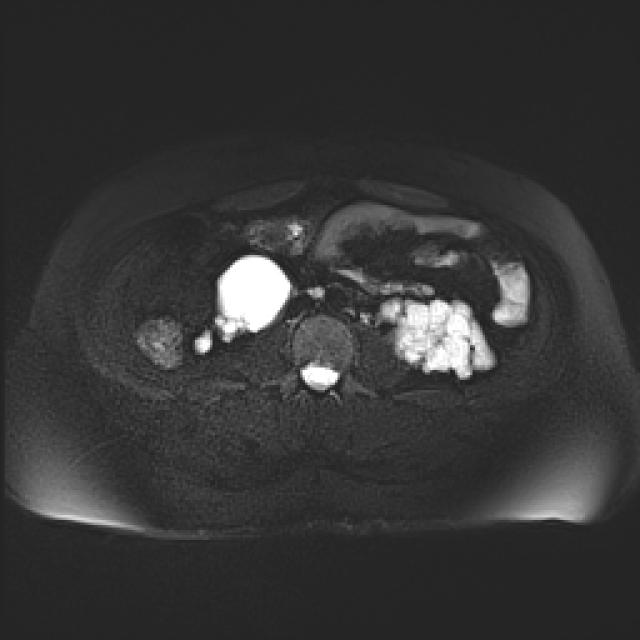sag: (192, 252, 291, 357)
sol: (379, 295, 497, 378)
